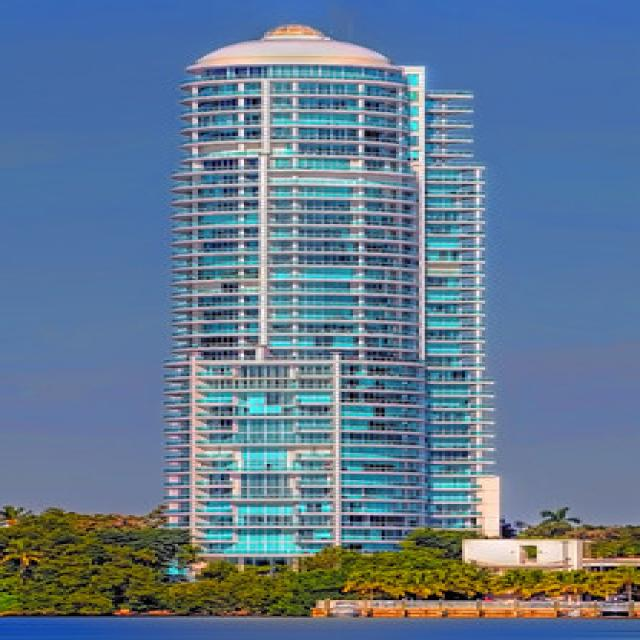building: (172, 21, 505, 574)
